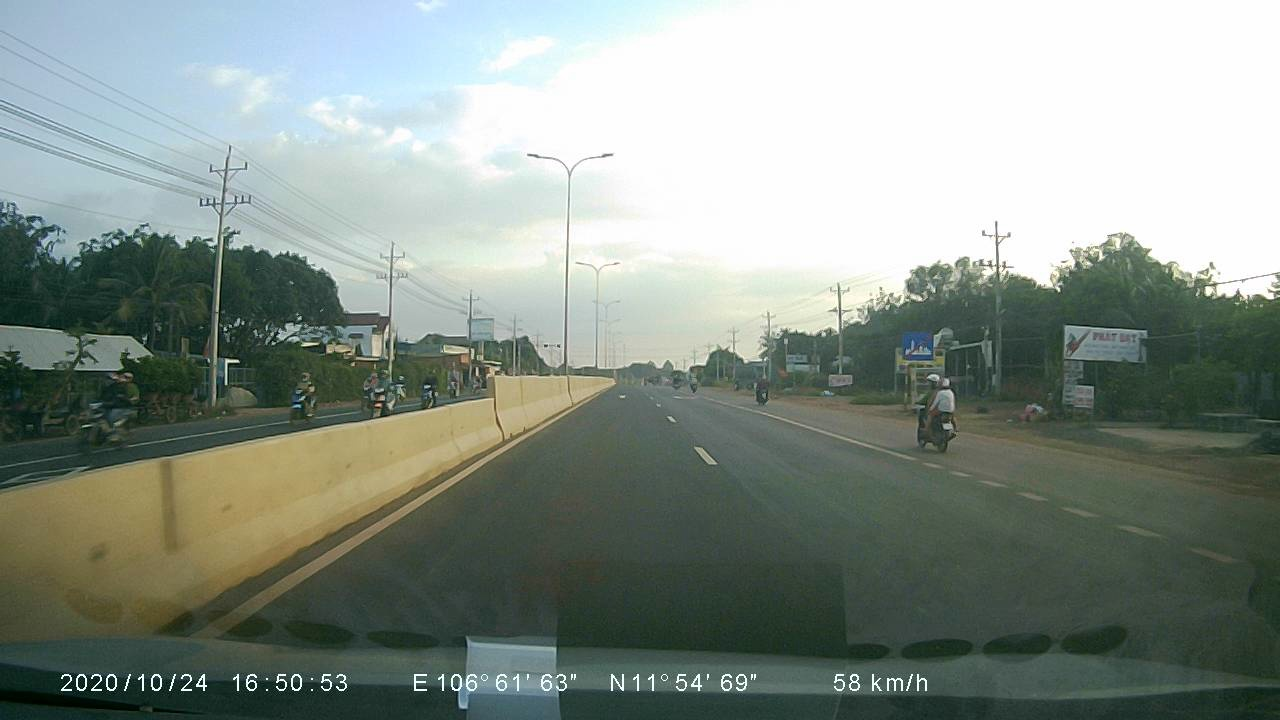Bien khac: (899, 328, 936, 362)
